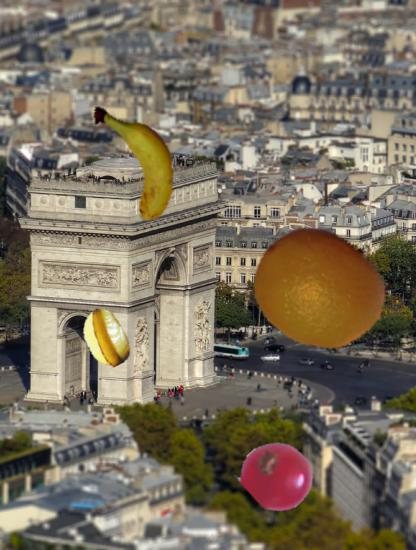Banana: (75, 106, 191, 222)
Carambula: (75, 307, 137, 369)
Lemon: (252, 221, 388, 357)
Redcurrant: (242, 440, 314, 512)
